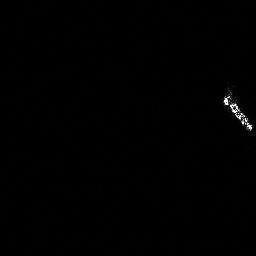ship: (218, 89, 256, 132)
